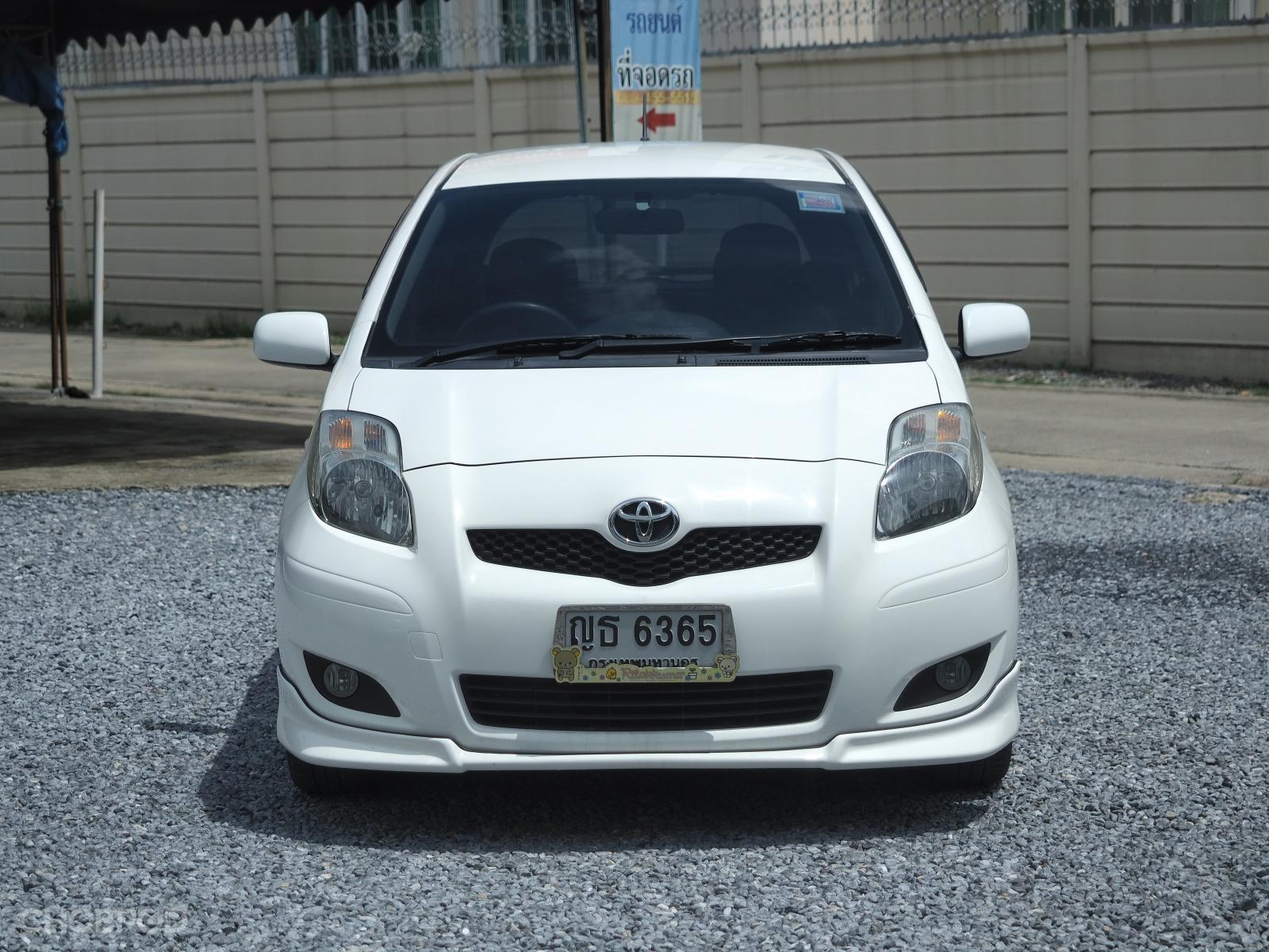license-plate: (548, 598, 744, 688)
